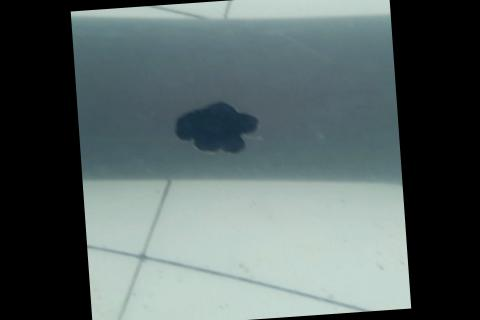kebocoran: (169, 96, 261, 160)
